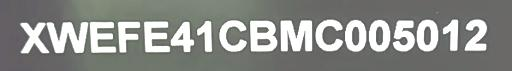letter: (278, 17, 316, 54), (46, 20, 88, 53), (314, 15, 344, 54), (248, 16, 278, 53), (87, 18, 117, 55), (462, 17, 490, 56), (217, 17, 247, 52), (142, 18, 172, 53), (20, 21, 50, 54), (366, 18, 392, 53), (343, 17, 367, 54), (169, 19, 195, 52), (392, 18, 416, 53), (415, 18, 439, 53), (118, 19, 142, 52), (440, 17, 458, 54), (196, 19, 214, 52)
